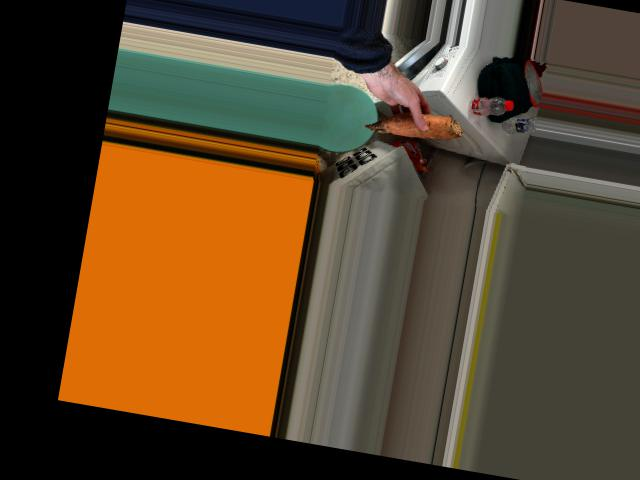sweet_potato: (370, 101, 469, 143)
